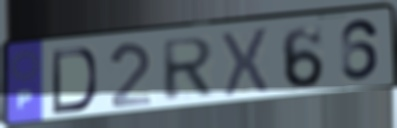2: (106, 40, 156, 110)
6: (280, 24, 326, 90), (339, 17, 382, 85)
D: (49, 46, 99, 117)
R: (159, 35, 217, 104)
X: (219, 25, 270, 100)
